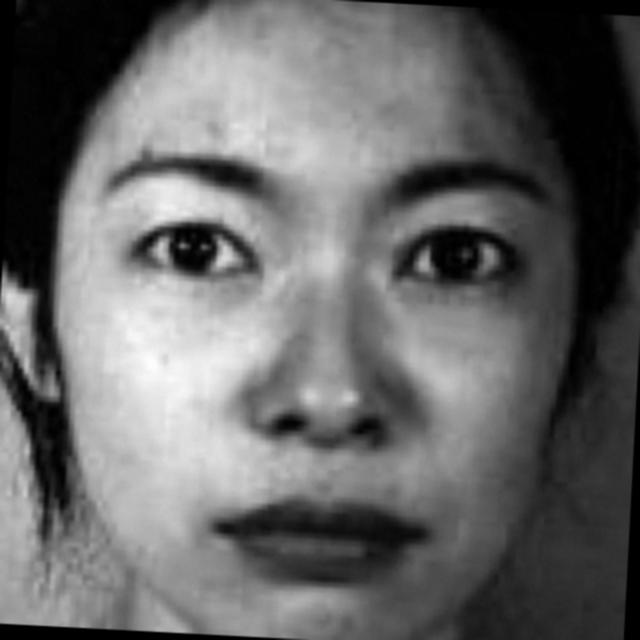fear: (40, 38, 582, 640)
